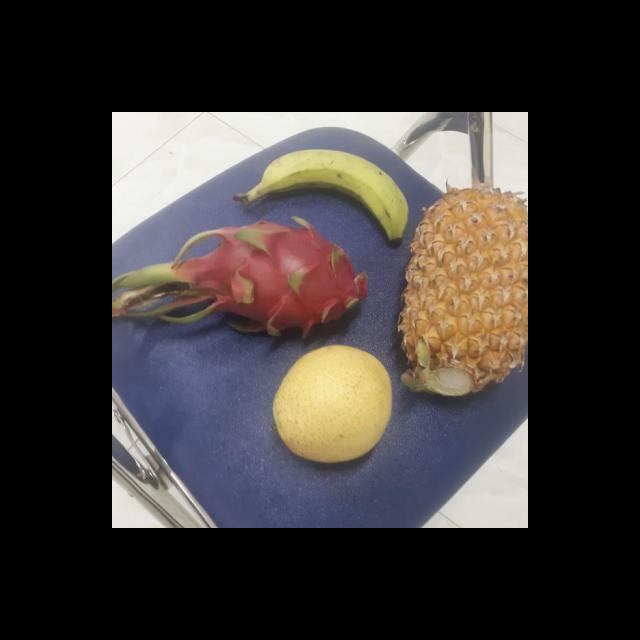banana: (249, 146, 412, 242)
pear: (273, 346, 397, 468)
pineapple: (398, 188, 528, 406)
pitaya: (182, 217, 382, 340)
